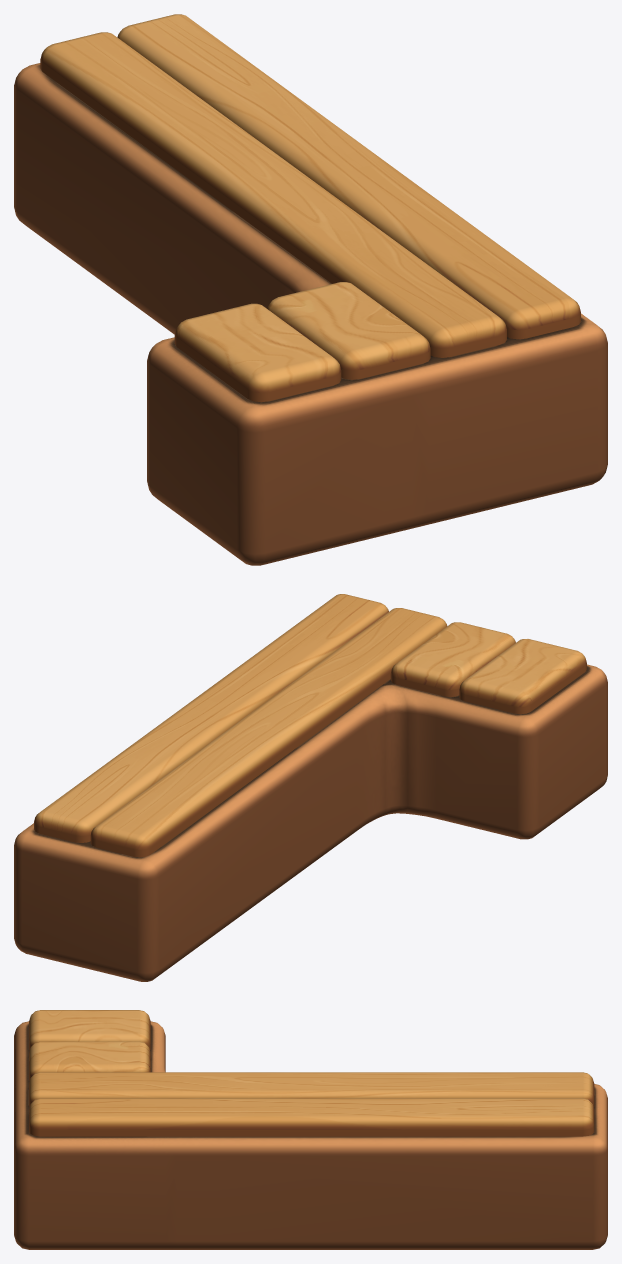
File: WoodenBox_LN_2x4.fbx
3 renders of one model, top to bottom at view 1: azimuth 30°, elevation 25°; view 2: azimuth 150°, elevation 25°; view 3: azimuth 270°, elevation 25°, orthographic. The views are drawn at different scales.
Visible parts, largest first — view 1: boxLN_2x4; view 2: boxLN_2x4; view 3: boxLN_2x4.
Boxes of the visible parts, x1,y1,x2,y2 form: boxLN_2x4: (14,14,607,565); boxLN_2x4: (14,594,607,981); boxLN_2x4: (14,1010,607,1249).
Size of the model in its own units: 2.03 by 0.961 by 4.03.
